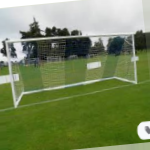goals: (5, 32, 140, 108)
